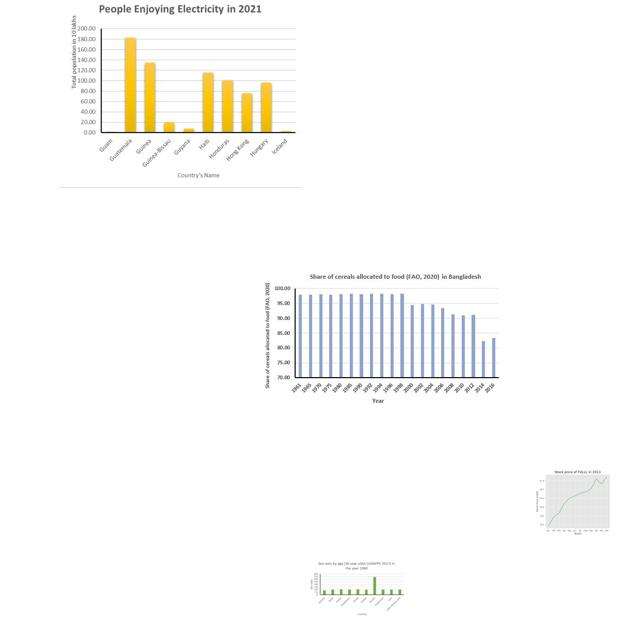Graph: (59, 1, 302, 188), (259, 269, 502, 407), (530, 466, 623, 536), (308, 560, 406, 617)
